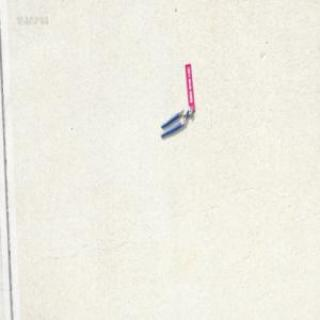LuggageTagtrack_idkeyframe: (183, 62, 194, 111)
Pliertrack_idkeyframe: (158, 106, 192, 138)
